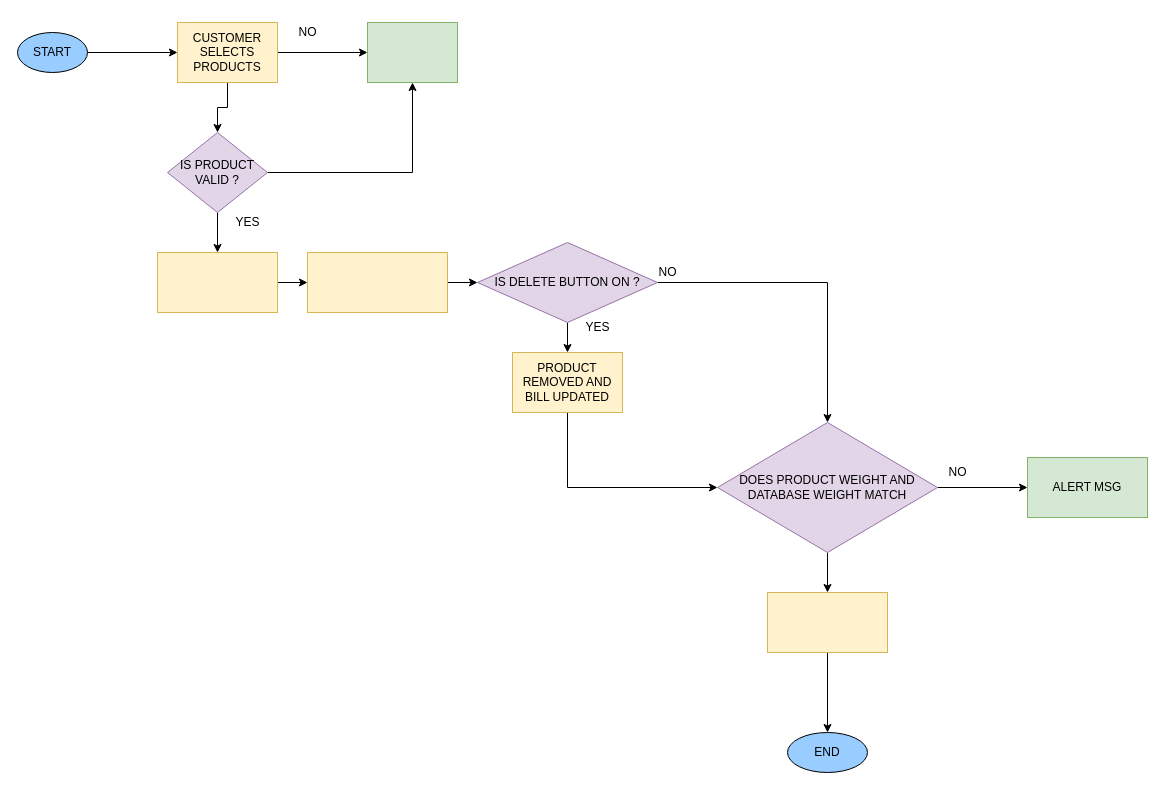
Image size: 1165x790. Some labels were removed from this diagram. Each missing label, with the centre of its shape:
ALERT MSG: PRODUCT NOT FOUND: the point at 412,52
DISPLAY PRODUCT NAME: the point at 217,282
FINAL BILL GENERATED: the point at 827,622
UPDATE ADDED PRODUCT ON USER INTERFACE: the point at 377,282
